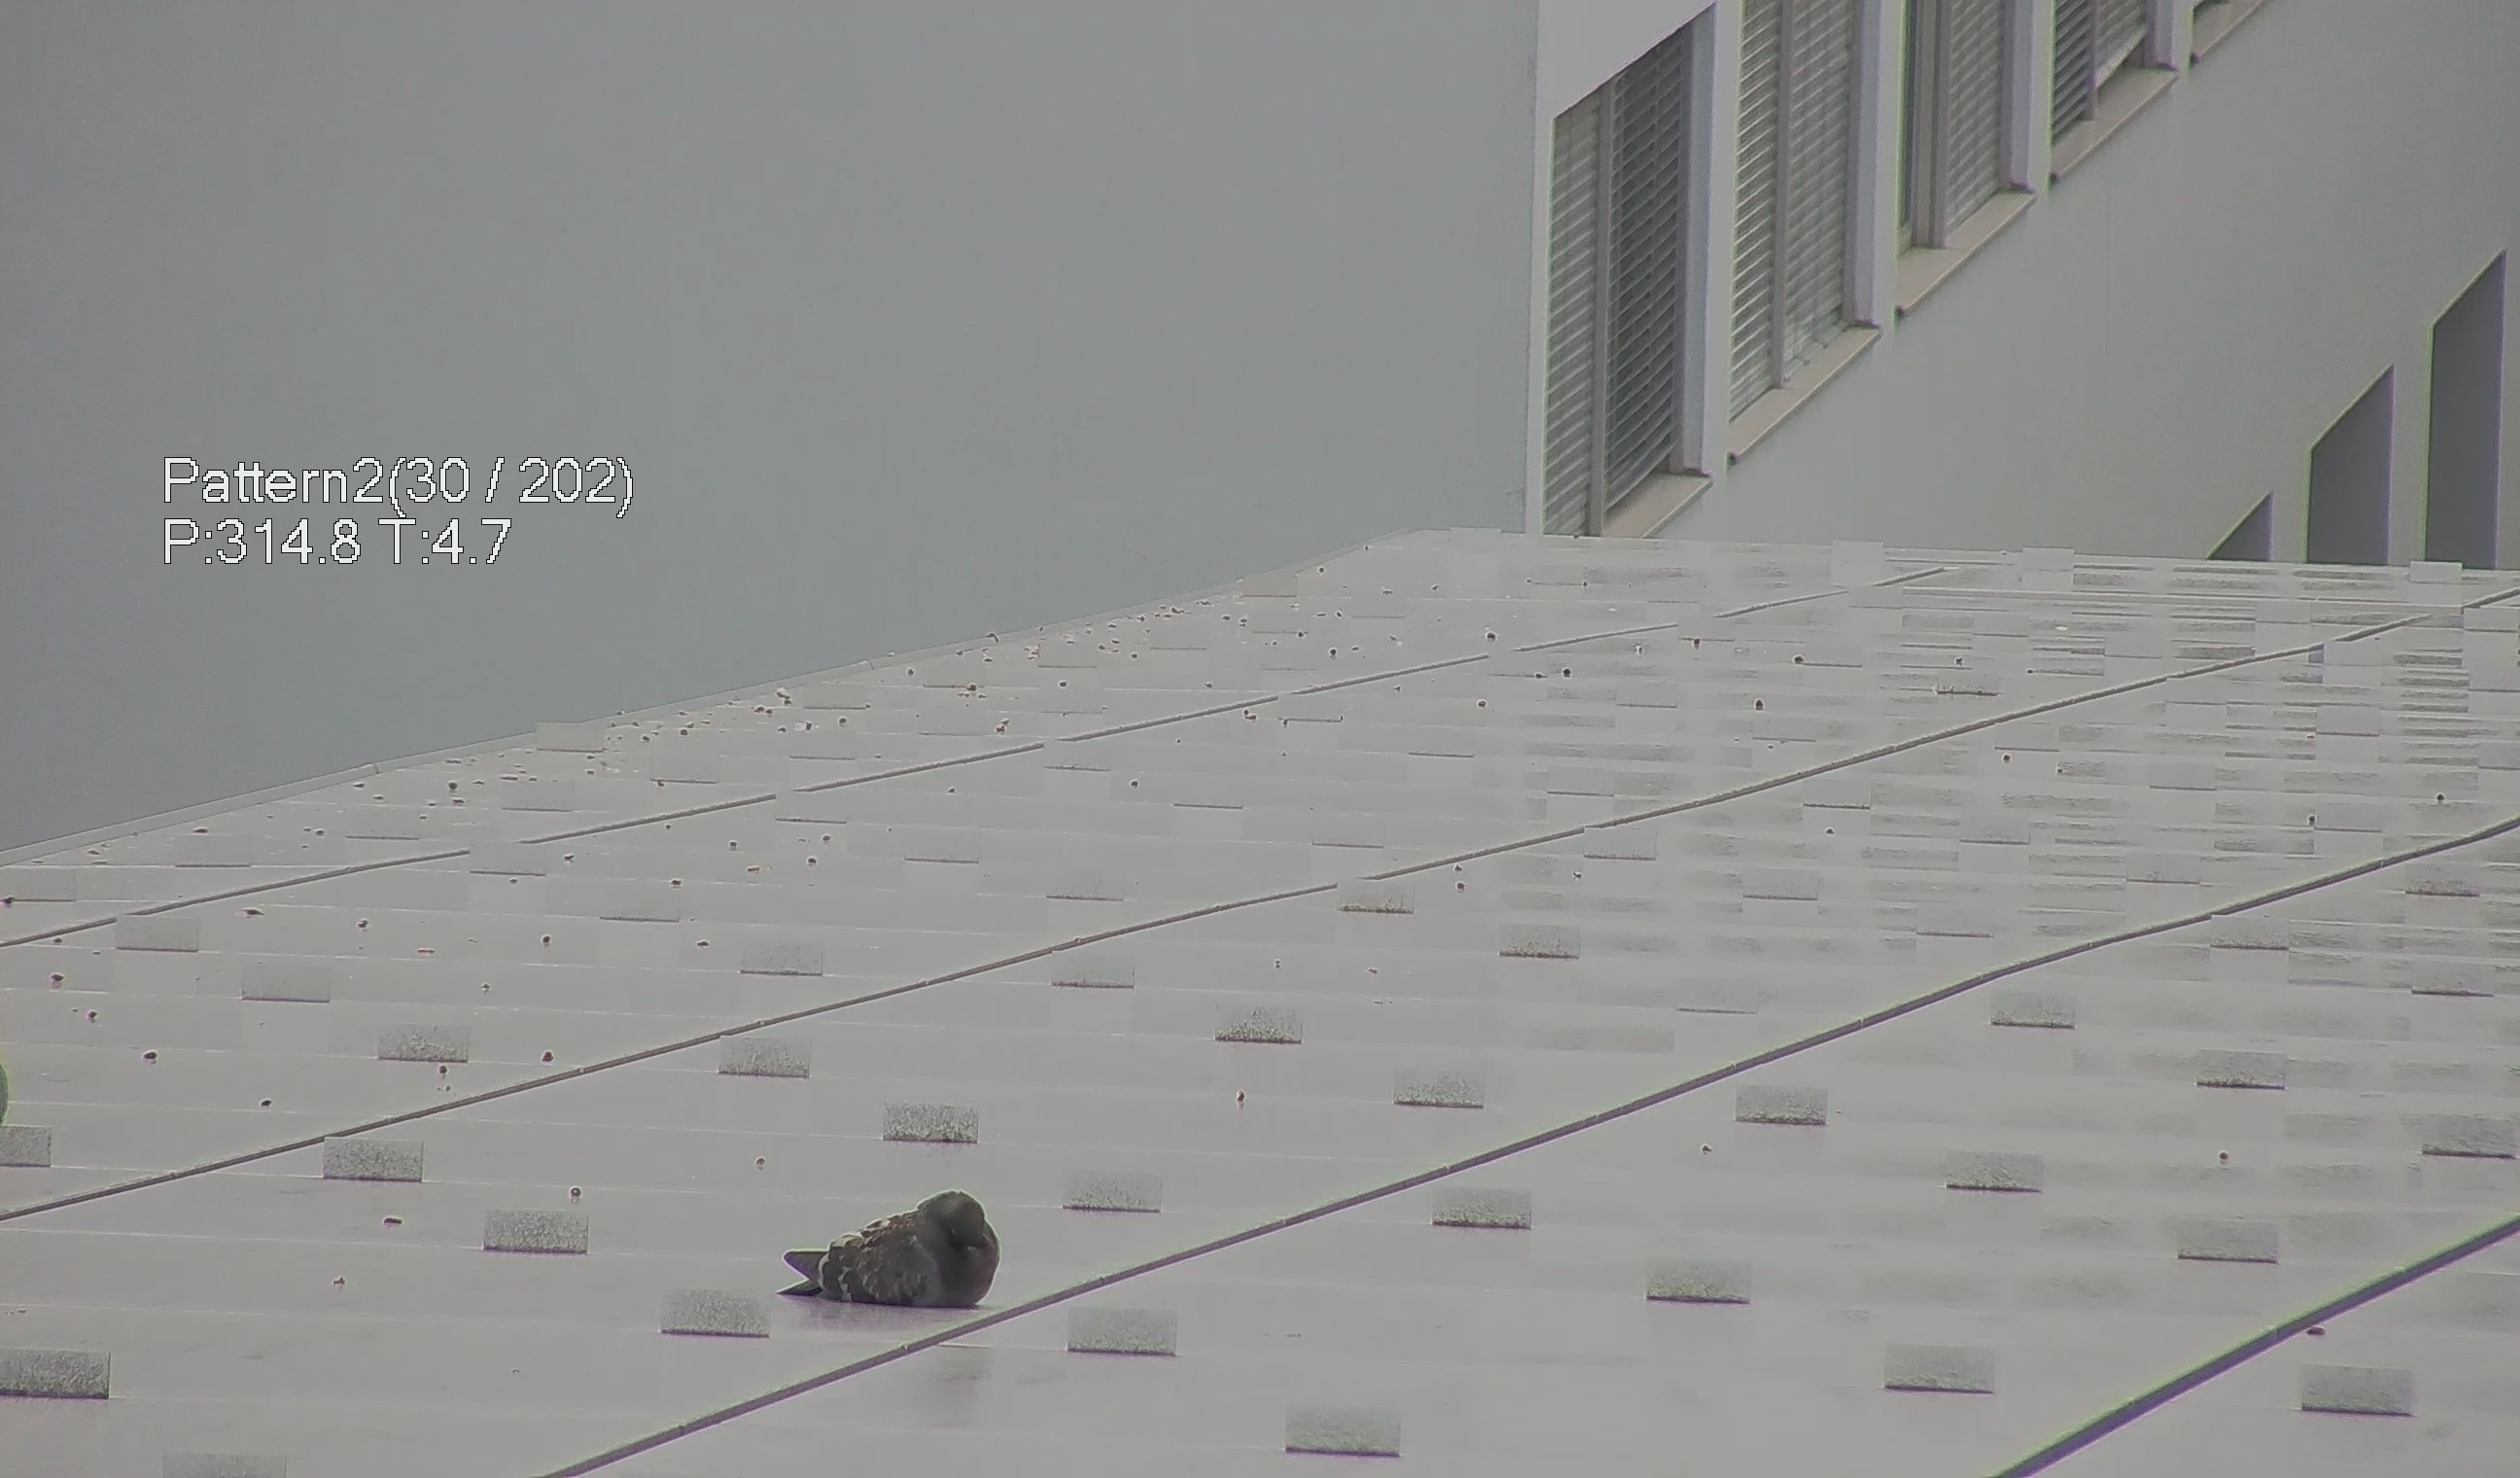Pigeon: (772, 1186, 1002, 1318)
